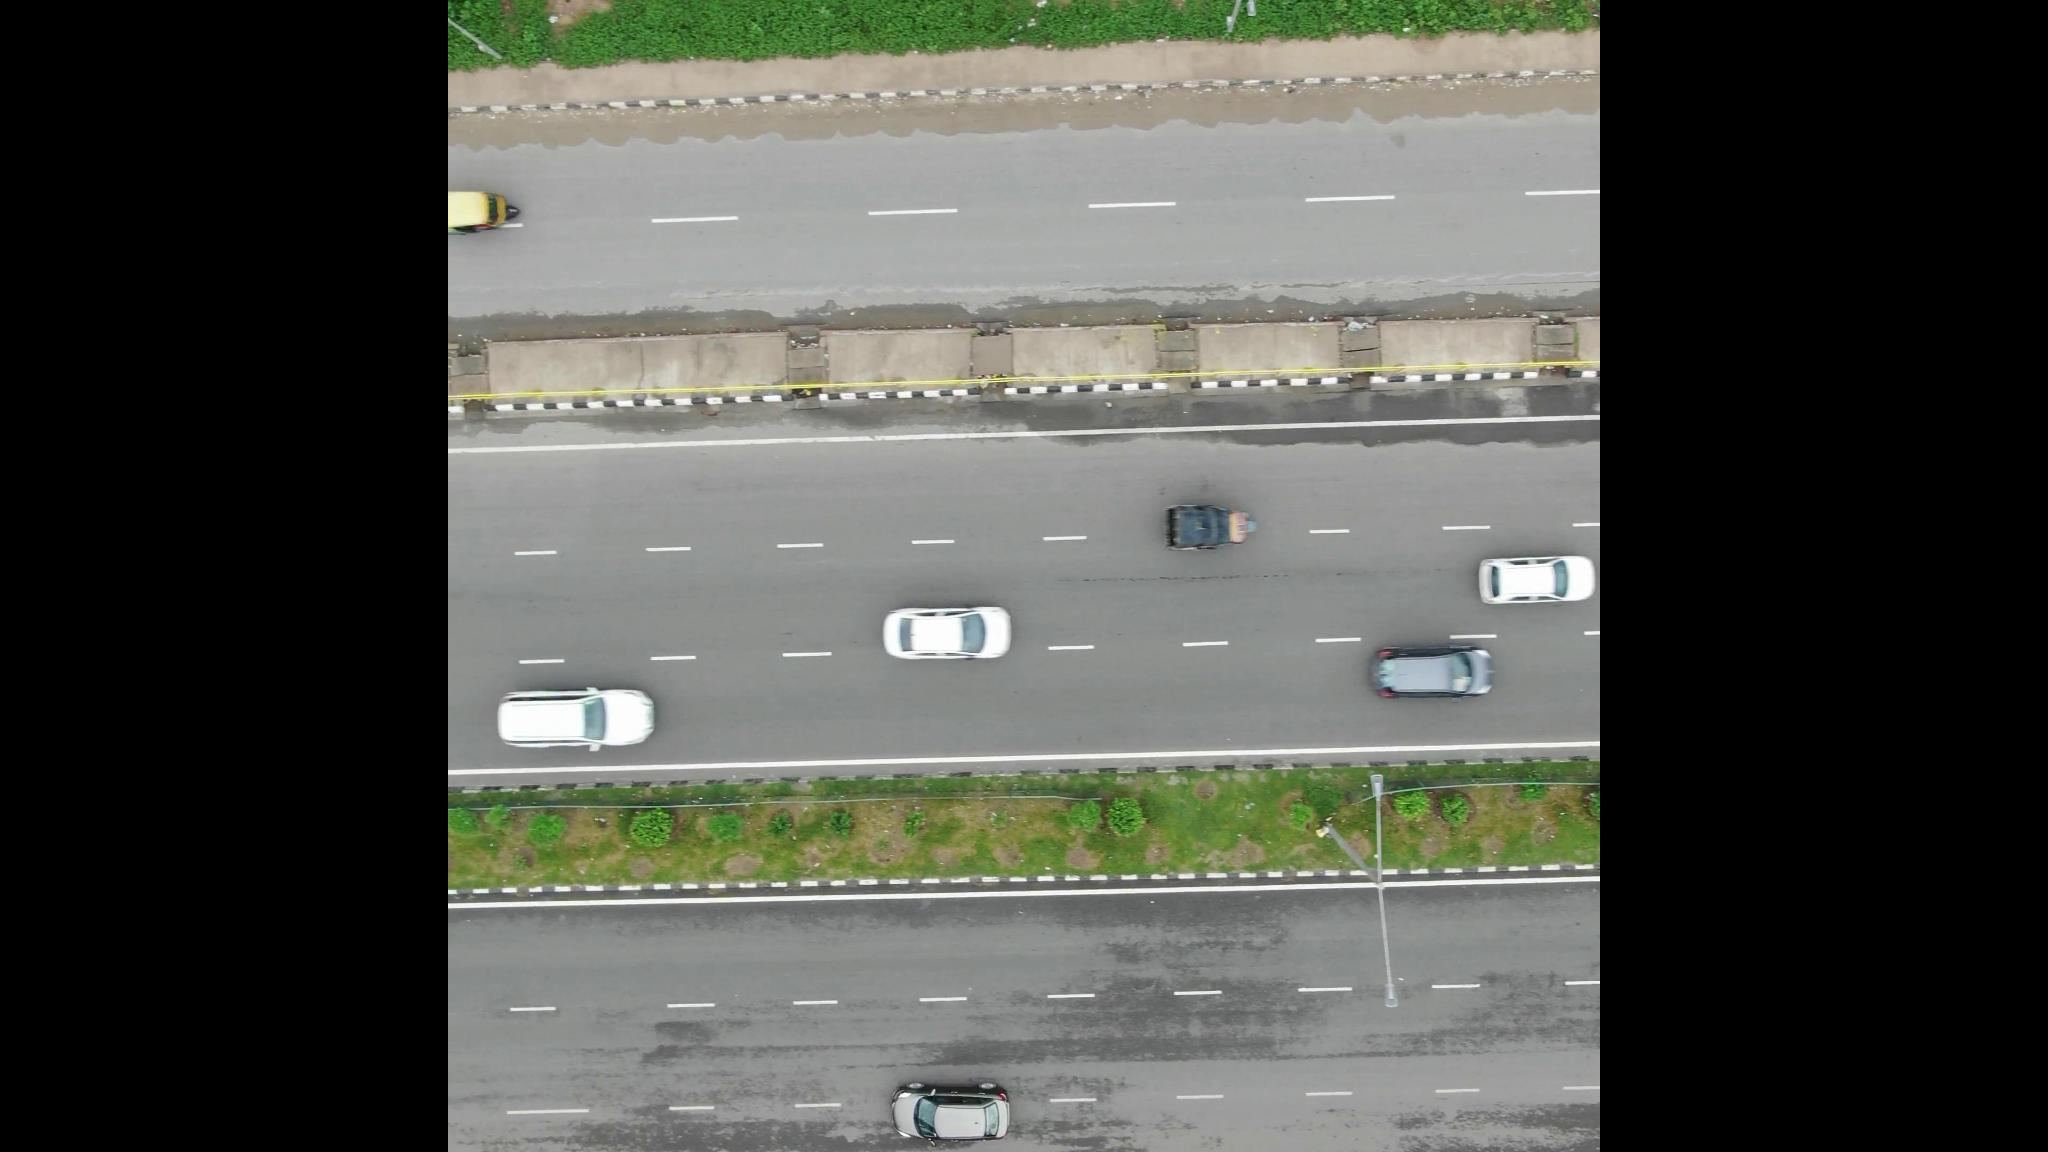Muddy_road: (452, 79, 1084, 159), (1148, 65, 1582, 152)
